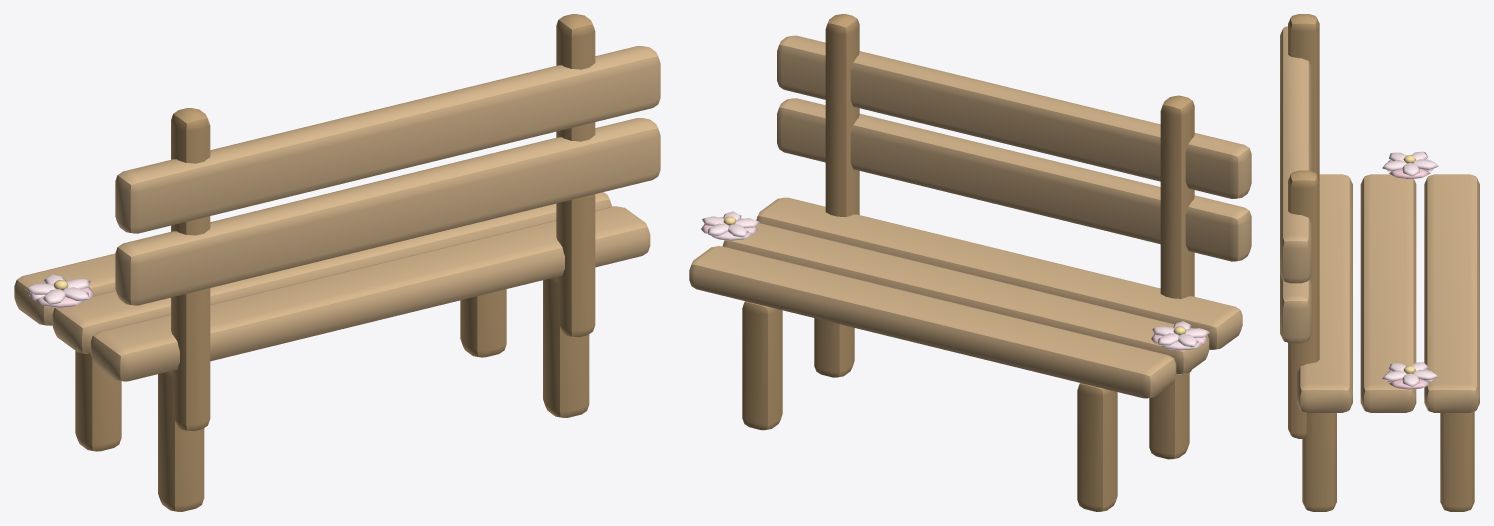
File: bench_spring_v1.glb
The picture shows the model from 3 angles, left to right: view 1: azimuth 30°, elevation 25°; view 2: azimuth 150°, elevation 25°; view 3: azimuth 270°, elevation 25°; orthographic projection. The views are drawn at different scales.
Bounding box in the file's own units: 2.09 × 1.4 × 0.7549.
